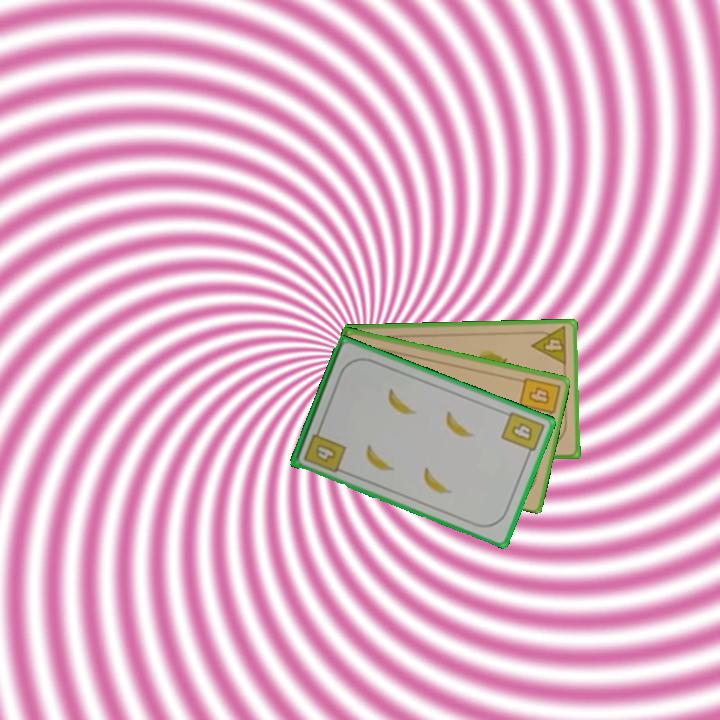4b: (498, 408, 547, 461), (300, 423, 349, 475), (515, 374, 562, 423)
4p: (528, 323, 570, 368)
